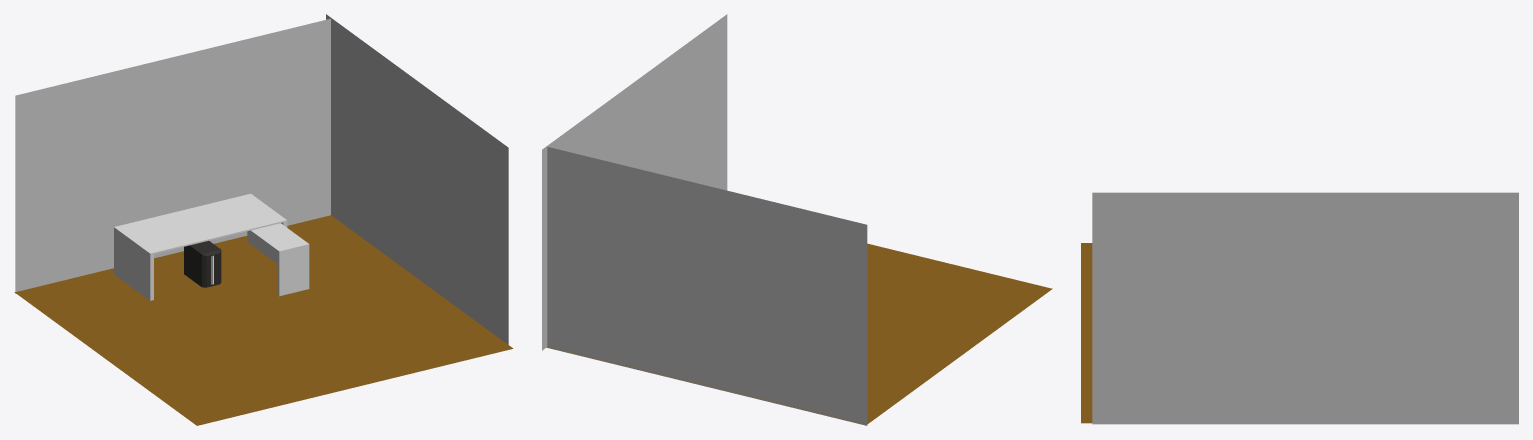
The model's file is room.gltf.
3 views of the same model, side by side, from view 1: azimuth 30°, elevation 25°; view 2: azimuth 150°, elevation 25°; view 3: azimuth 270°, elevation 25° (orthographic). The views are drawn at different scales.
Parts seen in each view (by area): view 1: Floor.001, Floor, Floor.002, Cube, Cube.002, PC; view 2: Floor.001, Floor.002, Floor; view 3: Floor.002, Floor.
Boxes of the visible parts, box(x1,y1,x2,y2) form: Floor.001: box(15, 18, 330, 293); Floor: box(14, 215, 513, 425); Floor.002: box(326, 14, 508, 344); Cube: box(114, 193, 287, 300); Cube.002: box(250, 223, 309, 296); PC: box(184, 241, 221, 287); Floor.001: box(547, 147, 867, 425); Floor.002: box(542, 14, 727, 350); Floor: box(547, 243, 1052, 424); Floor.002: box(1092, 192, 1518, 424); Floor: box(1081, 243, 1092, 423).
Size of the model in its own units: 10.02 by 6.02 by 10.26.
